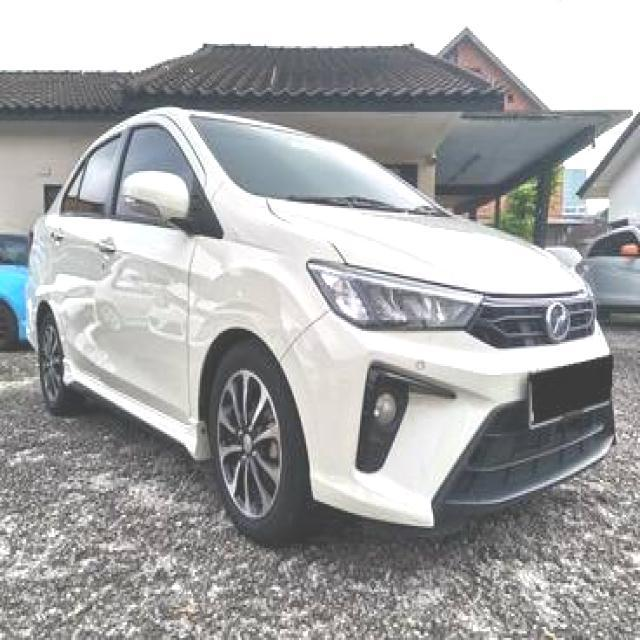PeroduaBezza: (25, 104, 617, 546)
